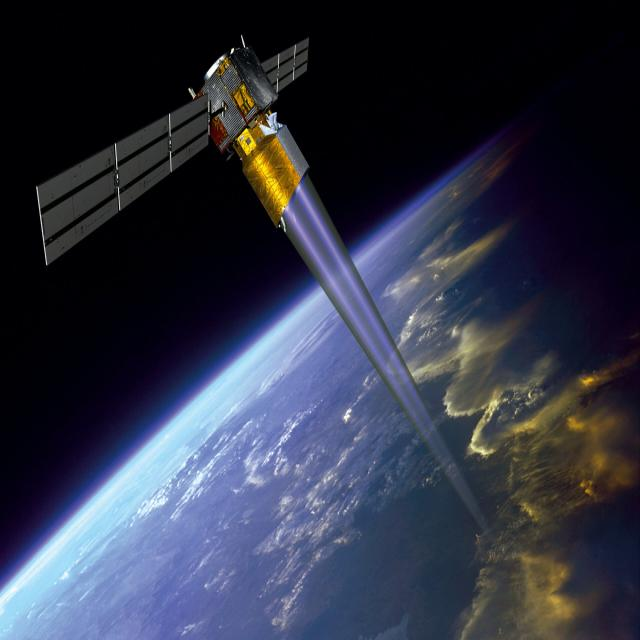medium_debris: (39, 15, 496, 552)
